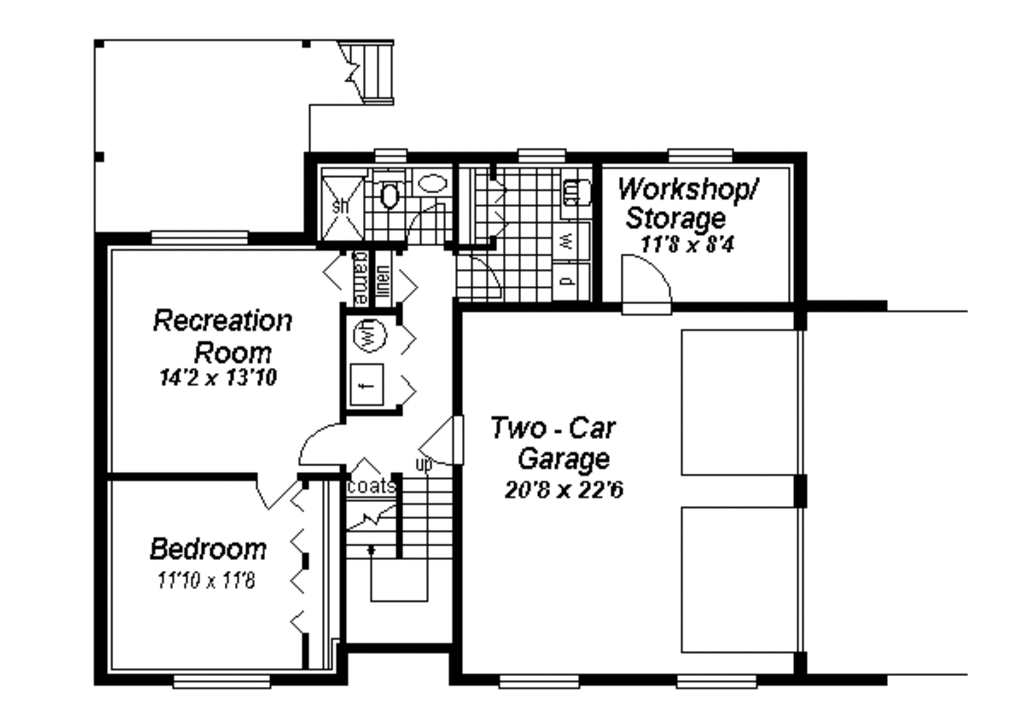door: (614, 241, 681, 324), (453, 251, 509, 305), (294, 417, 351, 467), (401, 195, 453, 249), (420, 421, 473, 465), (251, 478, 294, 521)
large_sink: (406, 168, 455, 196), (371, 173, 405, 209)
stairs: (340, 473, 455, 606), (296, 34, 418, 109)
window: (170, 667, 276, 694), (151, 229, 259, 255), (664, 668, 763, 694), (498, 668, 584, 691), (669, 143, 739, 168), (510, 147, 577, 167), (370, 146, 412, 166)
